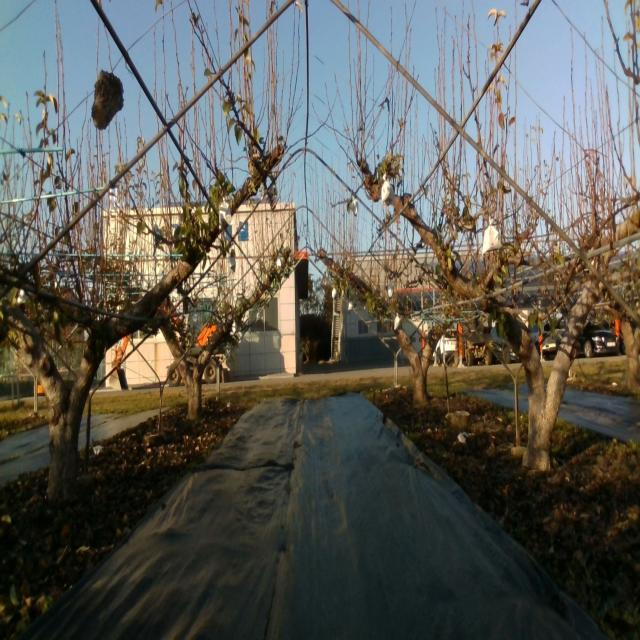pearbags: (482, 219, 502, 256), (219, 196, 233, 231), (381, 174, 395, 204)
